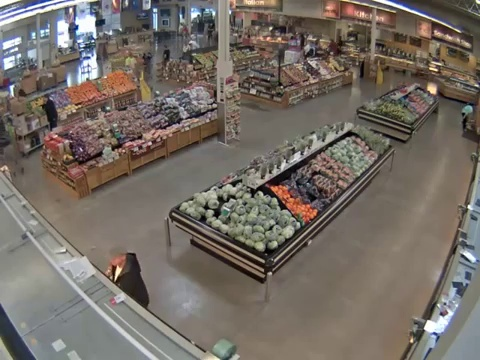face: (111, 256, 123, 266)
